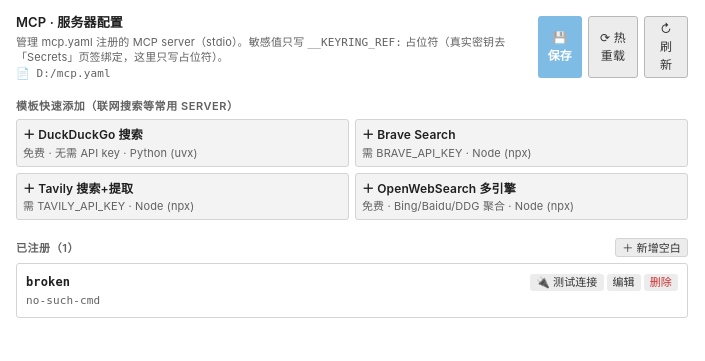
Test: McpSettingsPanel › 连通性测试失败回显错误信息
Click the button "🔌 测试连接" at (567, 282), box [530,274,604,290]
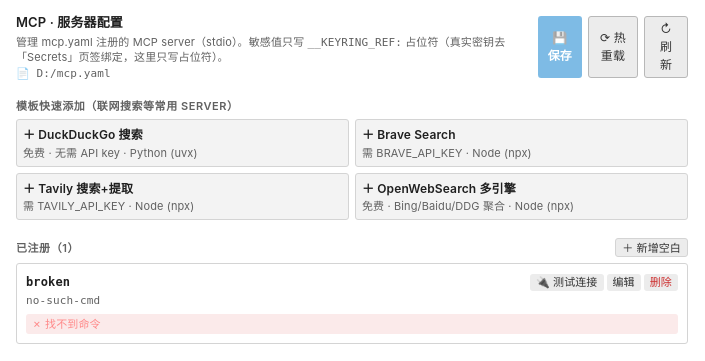
Check: the text "✗ 找不到命令" is shown, box [26,314,678,334]
